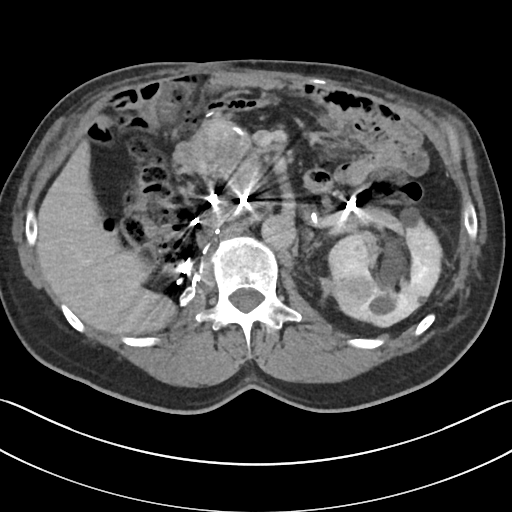Lesion: (331, 272, 376, 312)
